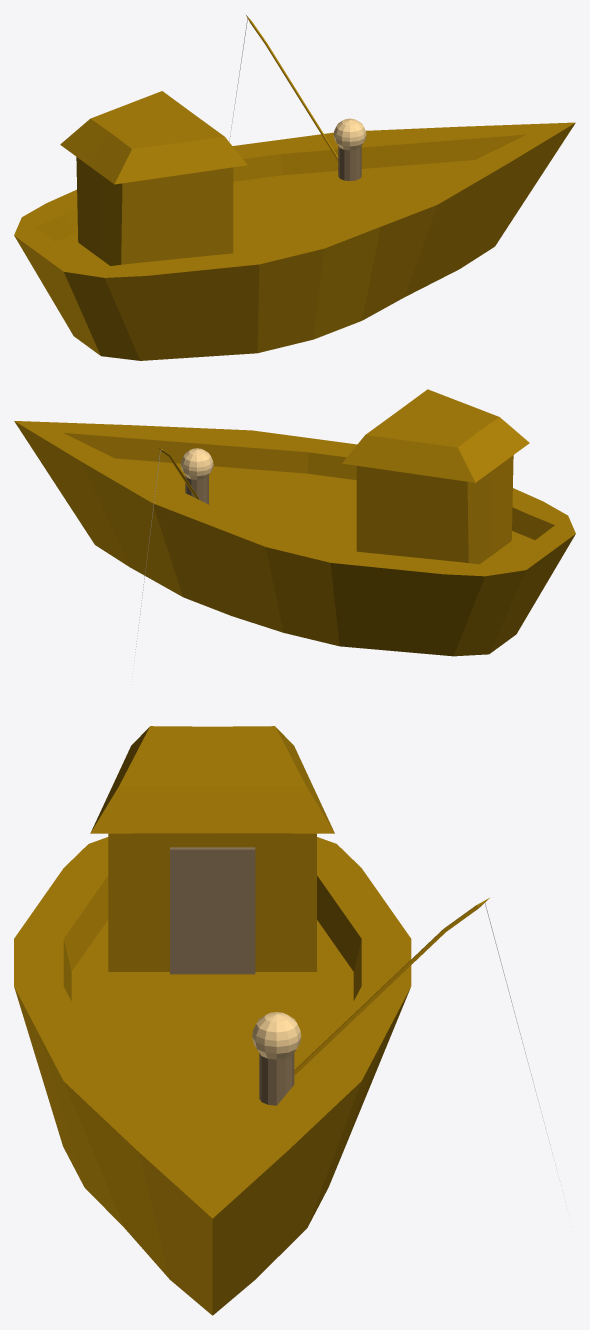
The model's file is FishingBoat.fbx.
The picture shows the model from 3 angles, top to bottom: view 1: azimuth 30°, elevation 25°; view 2: azimuth 150°, elevation 25°; view 3: azimuth 270°, elevation 25°; orthographic projection. The views are drawn at different scales.
Visible parts, largest first — view 1: pCube3; view 2: pCube3; view 3: pCube3.
Part boxes in pixels (bbox=[...]): pCube3: bbox=[14, 15, 575, 360]; pCube3: bbox=[14, 389, 575, 665]; pCube3: bbox=[14, 726, 562, 1315].
Size of the model in its own units: 43.47 by 17.96 by 26.3.
